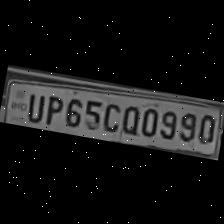0: (192, 110, 216, 144), (137, 103, 159, 138)
5: (78, 95, 102, 131)
6: (58, 93, 82, 129)
9: (174, 108, 198, 142), (156, 104, 178, 140)
C: (99, 98, 122, 134)
P: (38, 90, 62, 127)
Q: (117, 100, 141, 136)
U: (20, 88, 46, 124)
